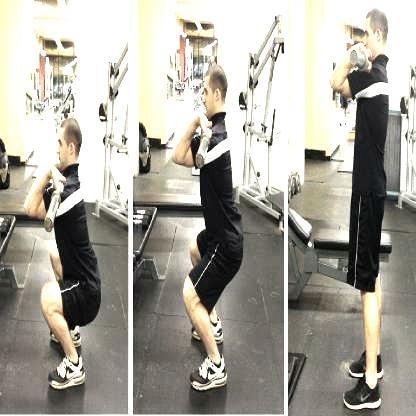Barbell: (37, 184, 65, 241), (189, 130, 212, 174), (345, 44, 368, 75)
